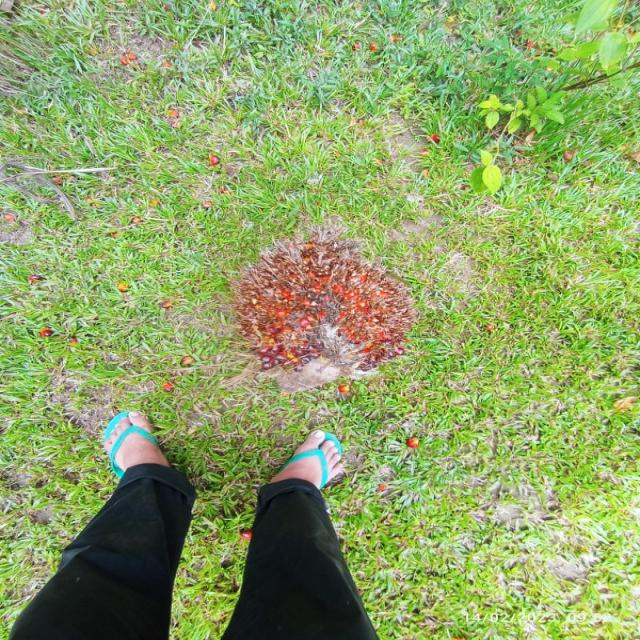fraksi 4: (164, 197, 476, 417)
